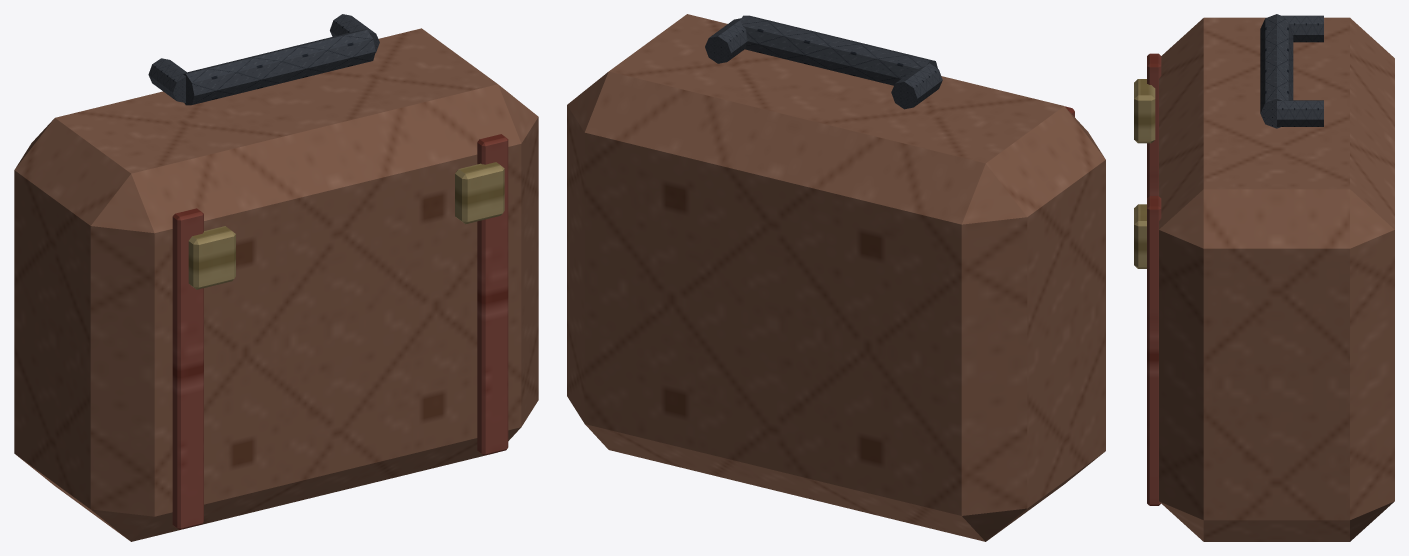
Rendered from MD_89_Handbag.fbx.
3 renders of one model, left to right at view 1: azimuth 30°, elevation 25°; view 2: azimuth 150°, elevation 25°; view 3: azimuth 270°, elevation 25°, orthographic. The views are drawn at different scales.
Visible parts, largest first — view 1: MD_89_Handbag_case_body, MD_89_Handbag_strap, MD_89_Handbag_strap.001, MD_89_Handbag_carry_handle_grip, MD_89_Handbag_brass_lock.001, MD_89_Handbag_brass_lock, MD_89_Handbag_carry_handle_mount, MD_89_Handbag_carry_handle_mount.001; view 2: MD_89_Handbag_case_body, MD_89_Handbag_carry_handle_grip, MD_89_Handbag_carry_handle_mount, MD_89_Handbag_carry_handle_mount.001; view 3: MD_89_Handbag_case_body, MD_89_Handbag_strap.001, MD_89_Handbag_carry_handle_grip, MD_89_Handbag_brass_lock, MD_89_Handbag_strap, MD_89_Handbag_carry_handle_mount.001, MD_89_Handbag_carry_handle_mount, MD_89_Handbag_brass_lock.001.
Part boxes in pixels (left/top/right/bottom): MD_89_Handbag_case_body: left=14, top=28, right=538, bottom=541; MD_89_Handbag_strap: left=172, top=208, right=203, bottom=529; MD_89_Handbag_strap.001: left=477, top=134, right=508, bottom=455; MD_89_Handbag_carry_handle_grip: left=183, top=29, right=375, bottom=105; MD_89_Handbag_brass_lock.001: left=455, top=162, right=504, bottom=224; MD_89_Handbag_brass_lock: left=188, top=226, right=235, bottom=289; MD_89_Handbag_carry_handle_mount: left=148, top=58, right=186, bottom=102; MD_89_Handbag_carry_handle_mount.001: left=330, top=14, right=379, bottom=52; MD_89_Handbag_case_body: left=567, top=14, right=1105, bottom=541; MD_89_Handbag_carry_handle_grip: left=740, top=15, right=937, bottom=85; MD_89_Handbag_carry_handle_mount: left=891, top=63, right=942, bottom=109; MD_89_Handbag_carry_handle_mount.001: left=705, top=18, right=747, bottom=63; MD_89_Handbag_case_body: left=1159, top=17, right=1394, bottom=541; MD_89_Handbag_strap.001: left=1147, top=196, right=1161, bottom=505; MD_89_Handbag_carry_handle_grip: left=1260, top=14, right=1293, bottom=128; MD_89_Handbag_brass_lock: left=1134, top=79, right=1155, bottom=143; MD_89_Handbag_strap: left=1147, top=53, right=1161, bottom=197; MD_89_Handbag_carry_handle_mount.001: left=1277, top=100, right=1323, bottom=126; MD_89_Handbag_carry_handle_mount: left=1282, top=15, right=1323, bottom=42; MD_89_Handbag_brass_lock.001: left=1134, top=204, right=1146, bottom=268.
Size of the model in its own units: 0.42 by 0.374 by 0.221.
Materials: 4 (4 with a texture image).
